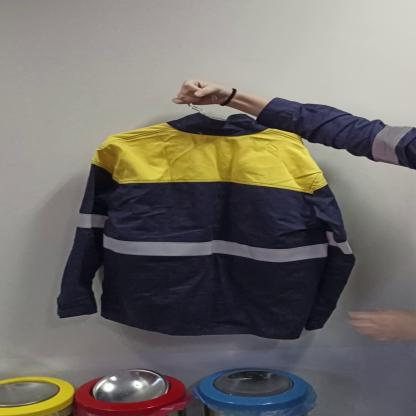C_eletrica: (54, 112, 355, 334)
